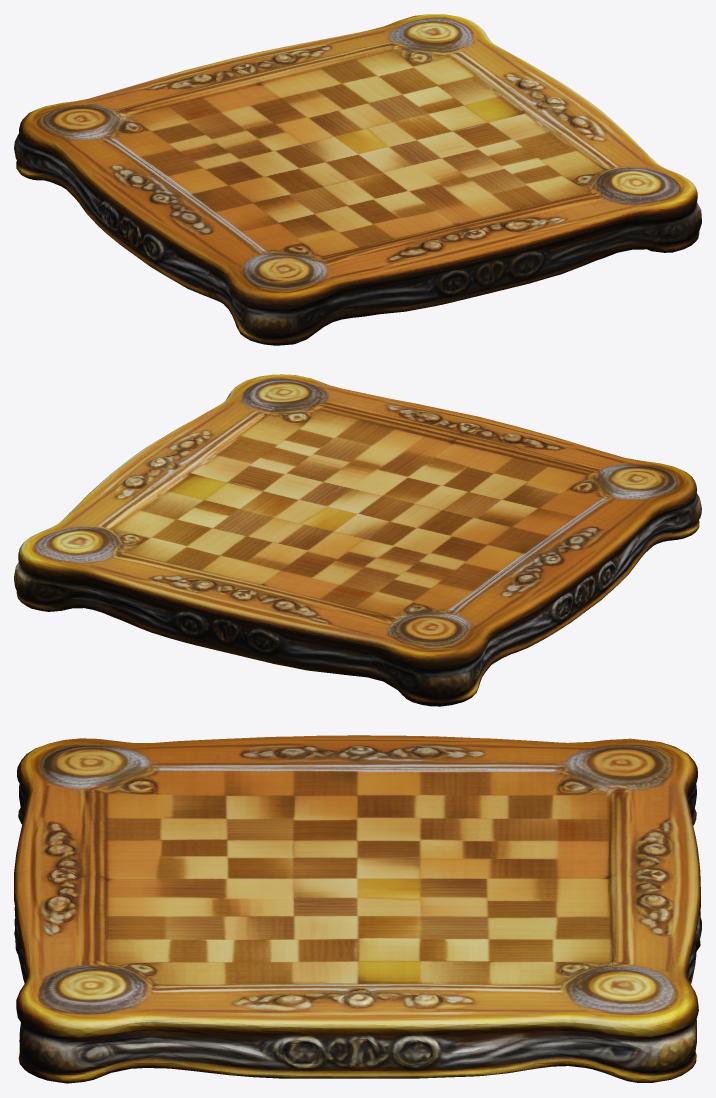
The model's file is wooden-game-board-3d.jpeg.glb.
3 views of the same model, one above another, from view 1: azimuth 30°, elevation 25°; view 2: azimuth 150°, elevation 25°; view 3: azimuth 270°, elevation 25° (orthographic). The views are drawn at different scales.
Parts seen in each view (by area): view 1: world; view 2: world; view 3: world.
Part boxes in pixels (x1,y1,x2,y2): world: (14,14,701,345); world: (14,374,701,706); world: (14,735,701,1083).
Bounding box in the file's own units: 0.9959 × 0.1165 × 0.9951.
1 material, 1 textured.
